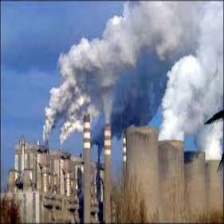smoke: (37, 3, 223, 158)
